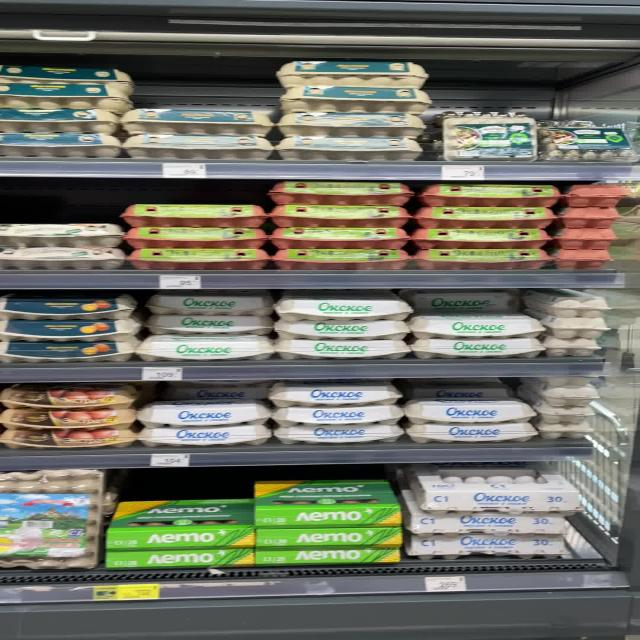egg box: (2, 468, 104, 571), (106, 500, 246, 546), (253, 481, 398, 525), (416, 468, 576, 505), (116, 104, 274, 136), (438, 112, 538, 160), (276, 109, 424, 141), (270, 133, 426, 160), (545, 113, 634, 160), (400, 508, 576, 531), (405, 534, 573, 558), (277, 86, 430, 112), (280, 61, 424, 88), (262, 180, 410, 206), (140, 333, 277, 361), (398, 398, 535, 426), (0, 312, 140, 339), (251, 524, 402, 549), (251, 540, 402, 565), (128, 244, 273, 270), (121, 133, 270, 158), (119, 201, 272, 225), (415, 222, 549, 249), (0, 382, 133, 409), (4, 422, 132, 450), (140, 398, 272, 425), (0, 73, 126, 101), (409, 312, 544, 338), (275, 296, 415, 321), (137, 422, 270, 448), (272, 245, 410, 270), (415, 332, 547, 358), (405, 420, 537, 446), (102, 545, 243, 569), (280, 316, 410, 342), (130, 225, 267, 249), (0, 108, 121, 135), (260, 201, 408, 223), (410, 246, 550, 269), (275, 404, 403, 429), (2, 404, 129, 429), (0, 338, 137, 361), (268, 225, 409, 247), (416, 182, 556, 204), (0, 244, 123, 269), (270, 380, 402, 403), (0, 225, 126, 249), (275, 337, 412, 359), (0, 131, 114, 157), (416, 205, 556, 226), (148, 293, 270, 317), (272, 425, 404, 446), (0, 296, 137, 316), (149, 313, 272, 335)
